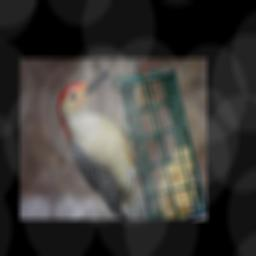Woodpecker: (57, 71, 147, 219)
